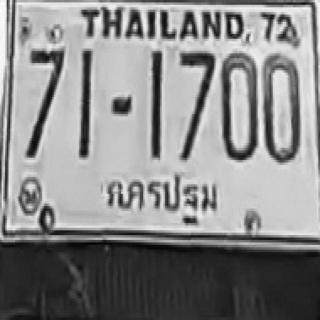N00: (261, 51, 300, 160), (221, 50, 256, 159)
N01: (79, 47, 91, 156), (150, 50, 160, 156)
N07: (27, 45, 64, 156), (179, 49, 214, 158)
P28: (101, 163, 226, 228)
